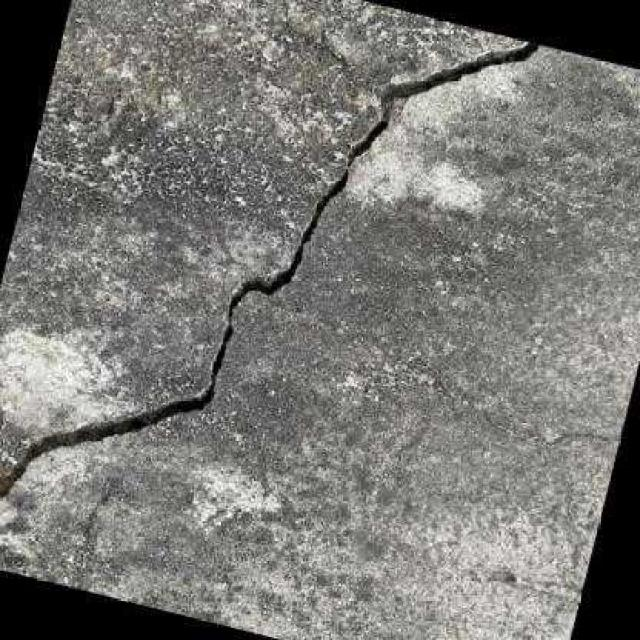D00: (0, 43, 538, 498)
